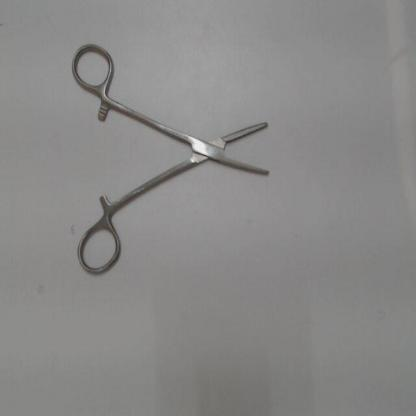Mayo Needle Holder: (67, 36, 280, 282)
